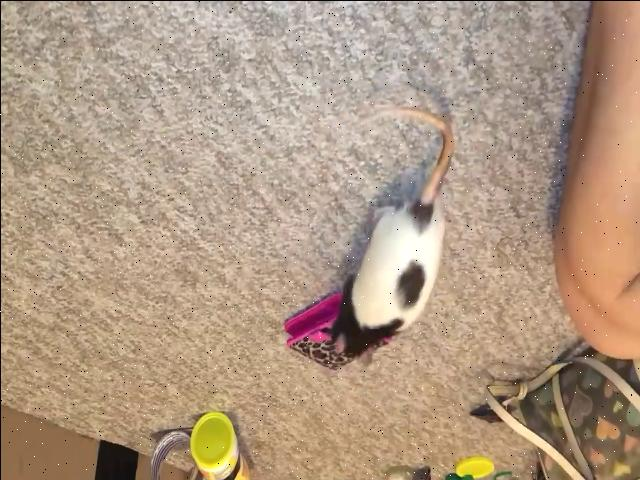Tikus: (329, 101, 456, 368)
